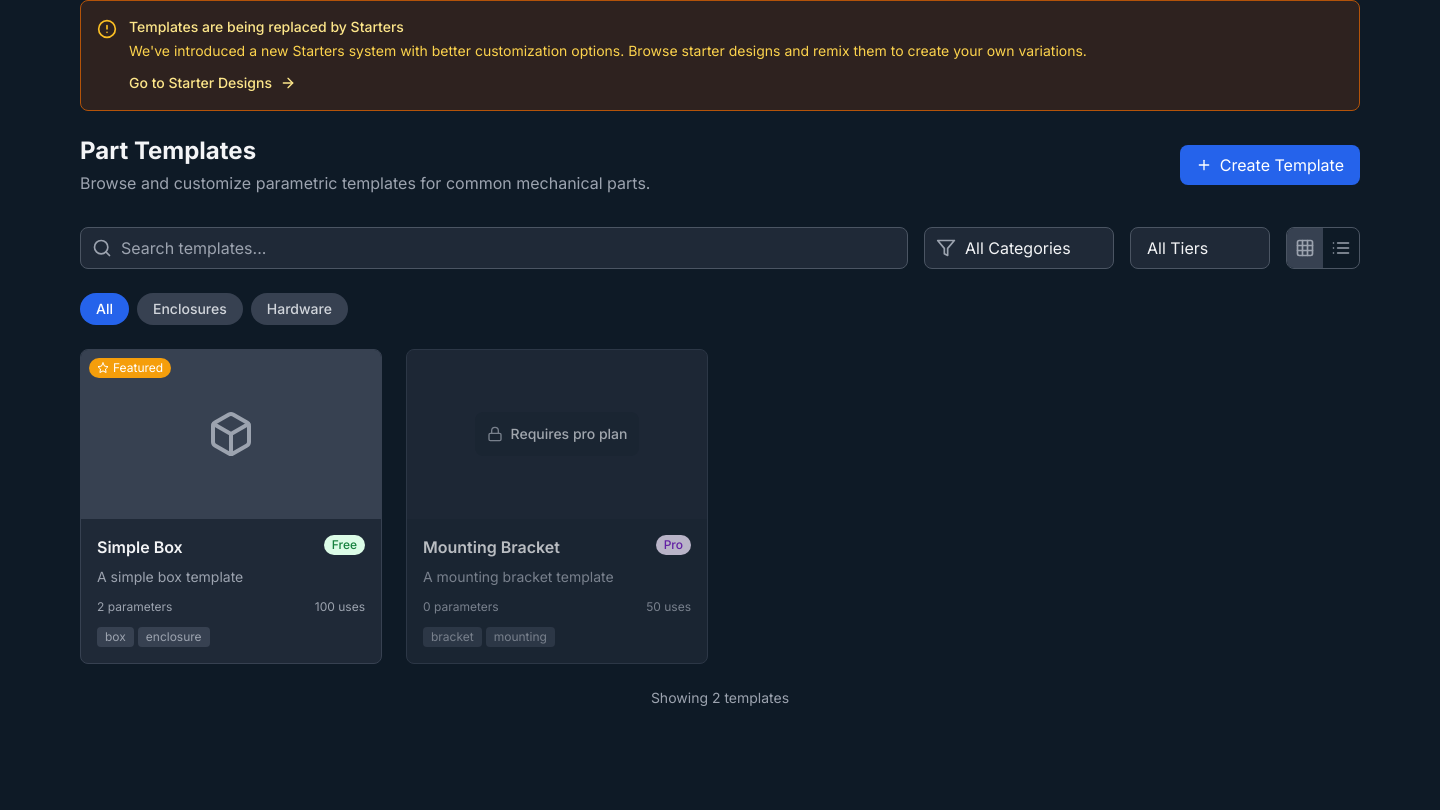
Scenario: TemplatesPage › Create Template Modal › opens create template modal when clicking create button
The image size is (1440, 810).
Expected: the heading "Simple Box" is shown, [97, 535, 183, 559]
Find and click the header create template button (the one with Plus icon)
Click the button "Create Template" at (1270, 165), box [1180, 145, 1360, 185]
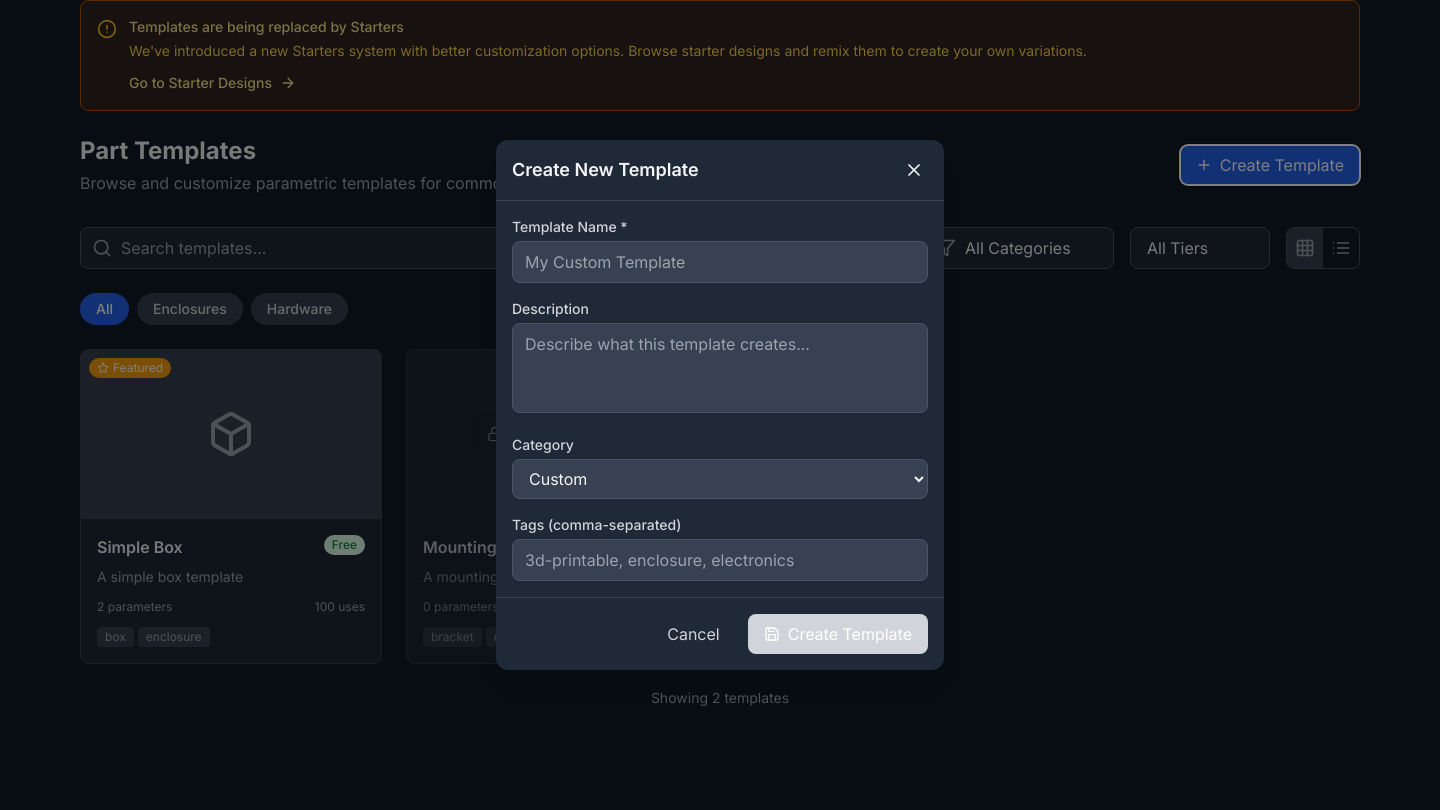
Expected: the heading "Create New Template" is shown, [512, 156, 699, 184]
Expected: the field with placeholder "My Custom Template" is shown, [512, 241, 928, 283]
